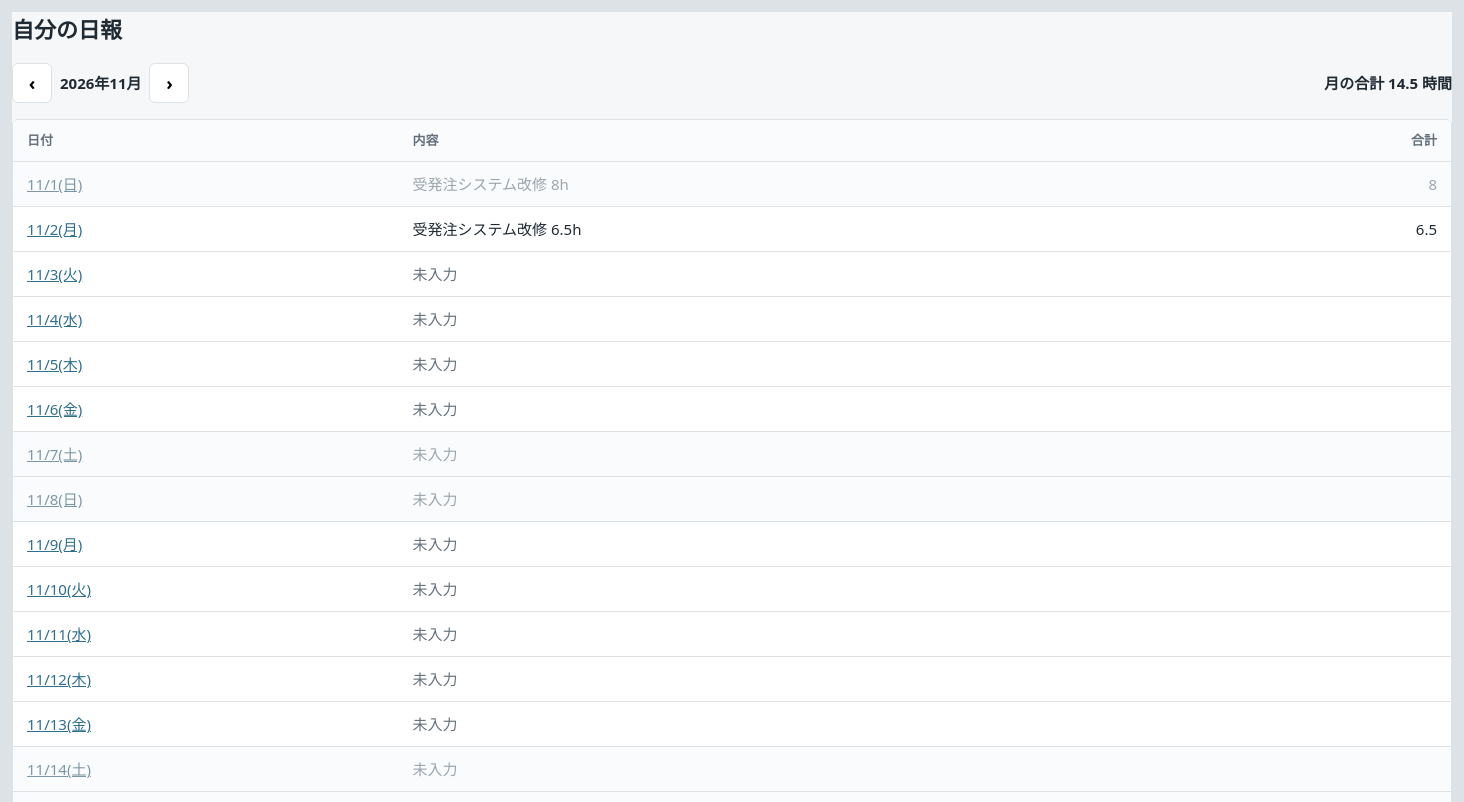
Test case: 前の月に切り替えられる
Expected: the text "月の合計 14.5 時間" is shown, [1324,71,1452,95]
Click the button named "前の月" at x=32, y=83, box [12,63,52,103]
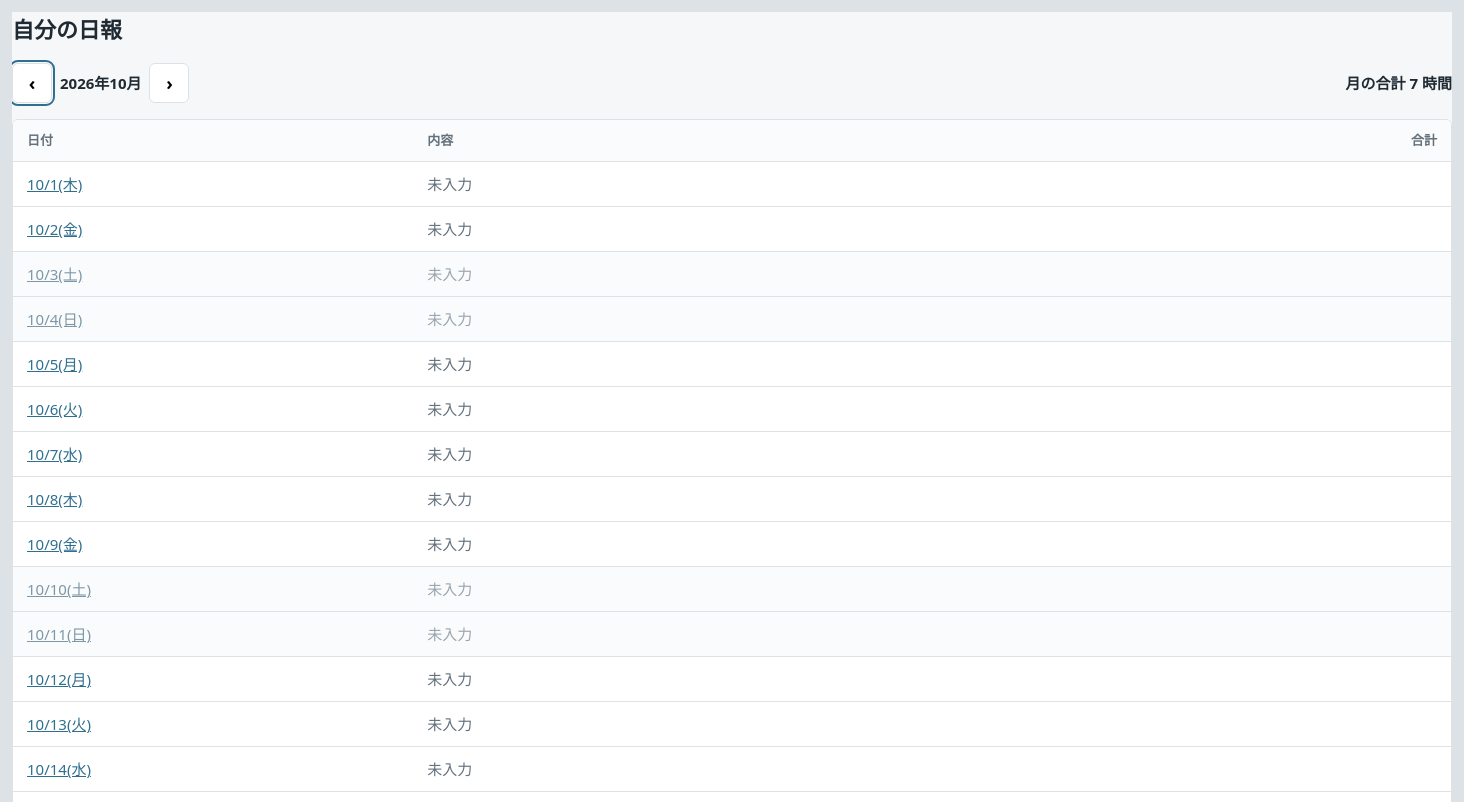
Result: the text "月の合計 7 時間" is shown at [1346,71,1452,95]
